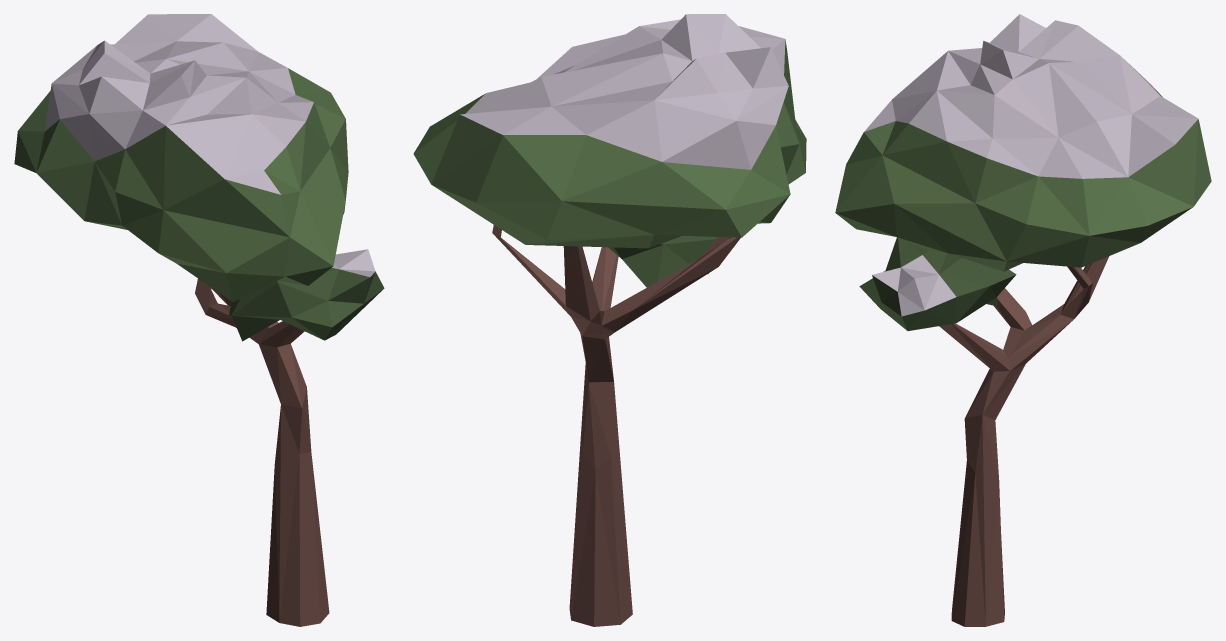
File: CommonTree_Snow_4.lod2.glb
The picture shows the model from 3 angles, left to right: view 1: azimuth 30°, elevation 25°; view 2: azimuth 150°, elevation 25°; view 3: azimuth 270°, elevation 25°; orthographic projection. The views are drawn at different scales.
Visible parts, largest first — view 1: CommonTree_Snow_4; view 2: CommonTree_Snow_4; view 3: CommonTree_Snow_4.
Part boxes in pixels (box(x1,y1,x2,y2)): CommonTree_Snow_4: box(14, 14, 384, 626); CommonTree_Snow_4: box(413, 14, 806, 626); CommonTree_Snow_4: box(835, 14, 1211, 626).
Bounding box in the file's own units: 1.58 × 2.79 × 1.8.
